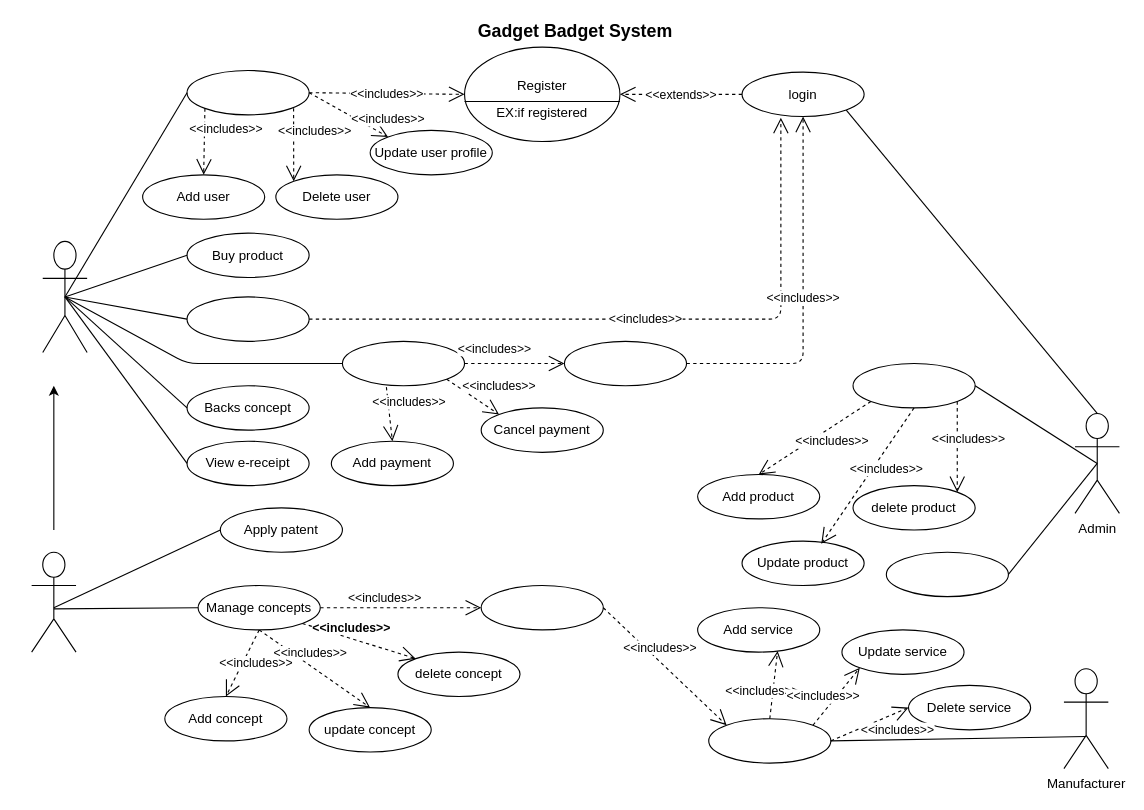
This 1144x810 diagram has some shape labels left out. The shapes that lost their labels are listed below. From the top down, each one's centre as x and y in pixels, then its label:
the point at 247,92: manage profile
the point at 64,296: consumer
the point at 247,318: manage cart
the point at 403,363: manage payments
the point at 625,363: Update payment
the point at 913,385: Manage products
the point at 946,574: manage patent service
the point at 53,601: Researcher
the point at 541,607: Access manufactured services
the point at 769,740: manage services
